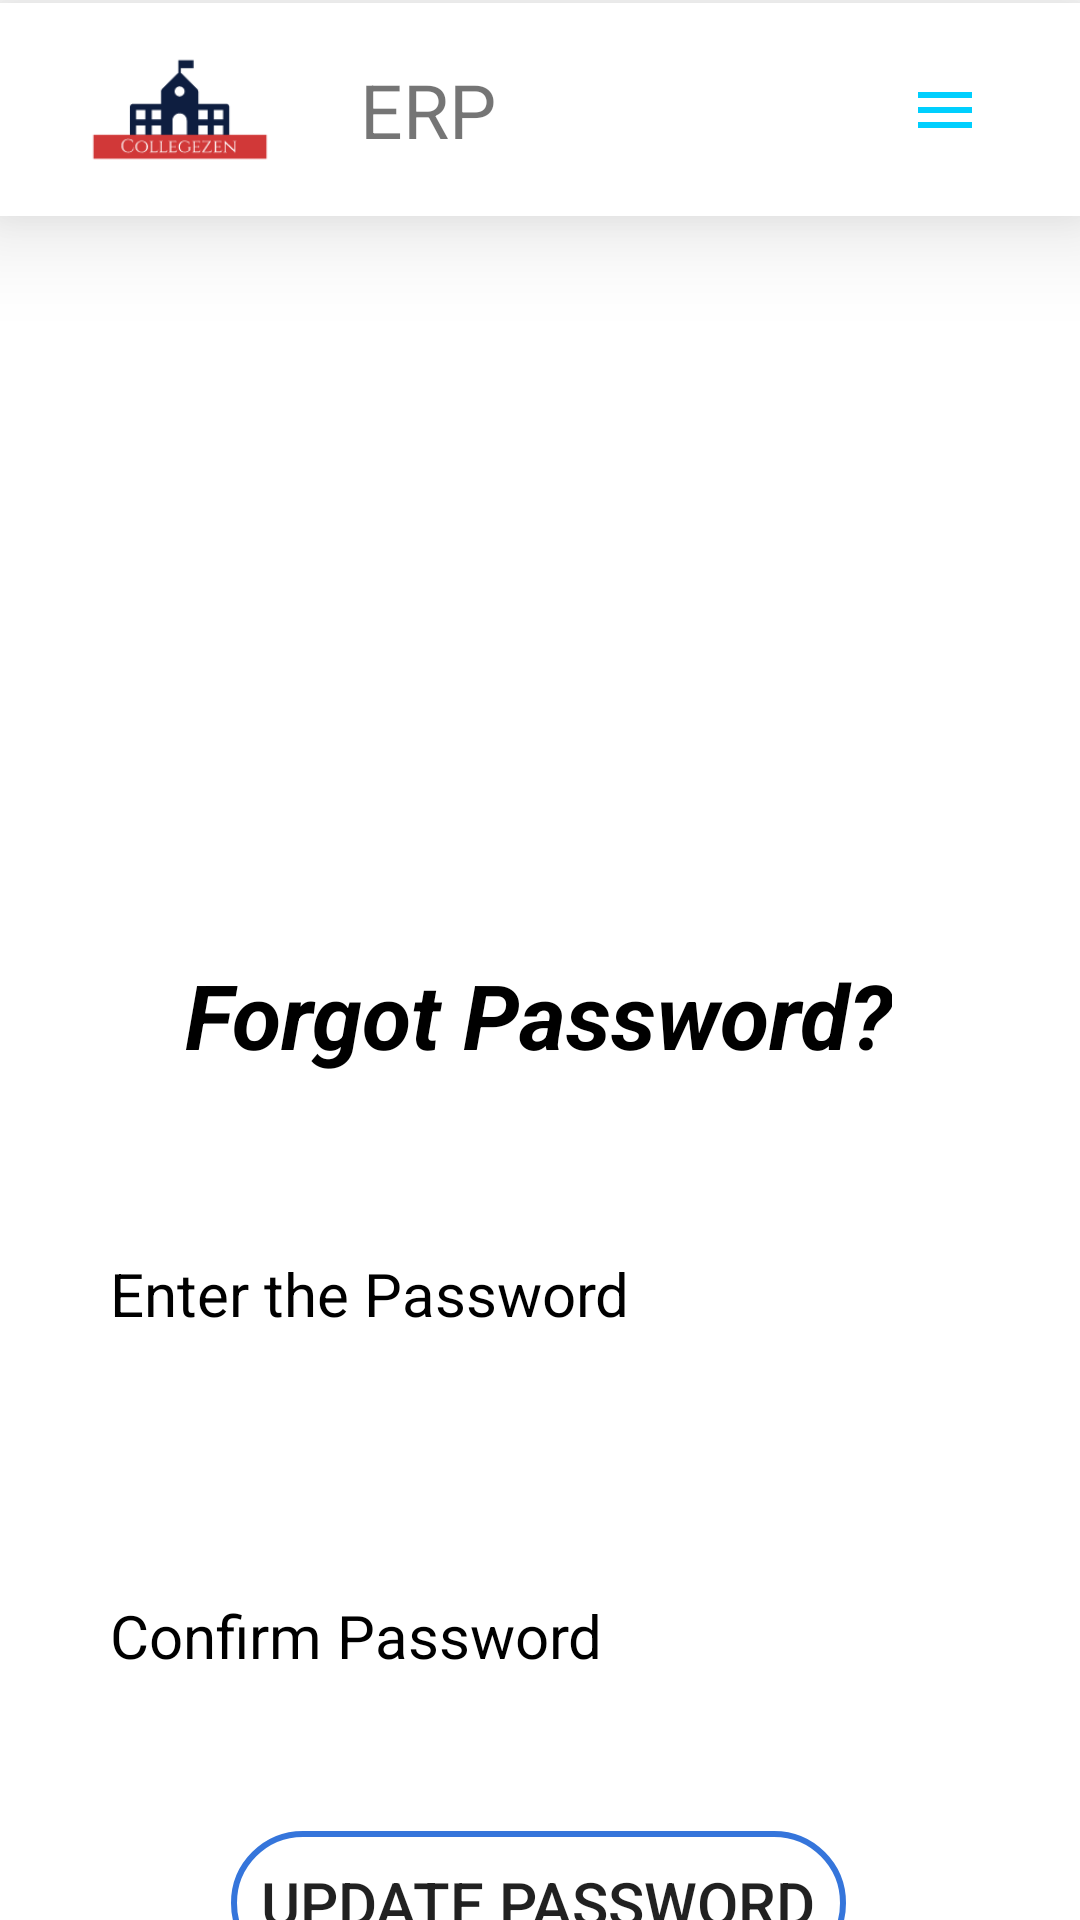

Icons on this 1080w x 1920h Android screen, each with its box as box=[x1, y1, x2, y2]:
menu: box=[918, 92, 972, 128]
